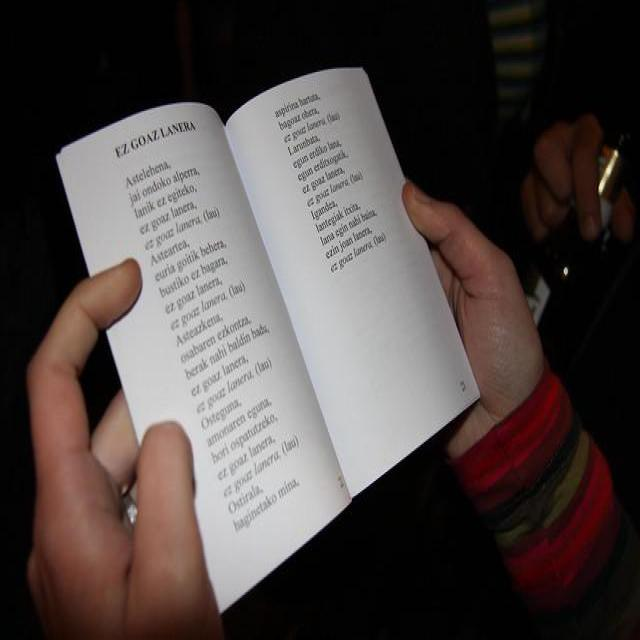paper: (56, 66, 484, 618)
